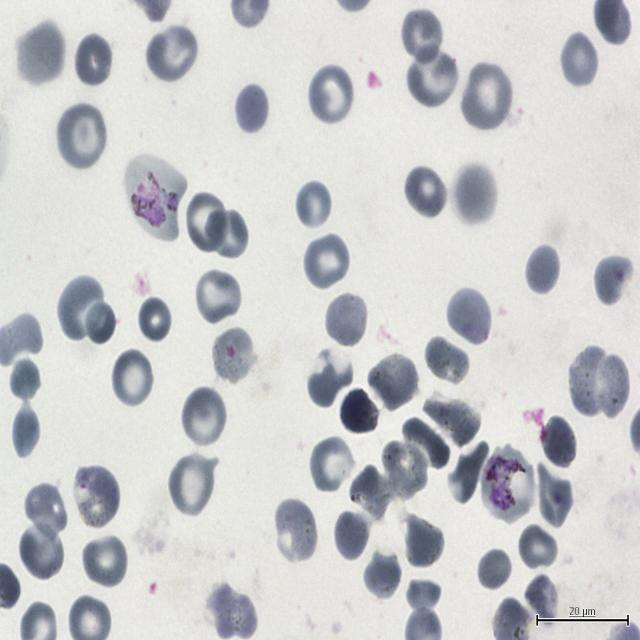red blood cell: (56, 103, 108, 172), (462, 62, 513, 132), (15, 19, 66, 86), (406, 46, 459, 110), (72, 463, 121, 532), (58, 276, 109, 342), (568, 344, 613, 418), (145, 23, 199, 84), (167, 452, 215, 519), (401, 412, 456, 469), (272, 497, 318, 565), (367, 352, 420, 411), (180, 386, 228, 451), (420, 394, 482, 444), (444, 284, 493, 347), (308, 62, 355, 127), (452, 162, 498, 227), (18, 520, 66, 582), (303, 231, 351, 292), (110, 347, 156, 410), (399, 5, 446, 66), (184, 190, 228, 255), (310, 434, 356, 496), (382, 439, 428, 501), (81, 533, 130, 590), (194, 268, 242, 326), (422, 333, 470, 388), (347, 466, 393, 522), (324, 290, 368, 348), (592, 252, 636, 310), (203, 206, 249, 261), (404, 163, 448, 220), (558, 30, 600, 89), (401, 514, 445, 570), (304, 356, 352, 407), (213, 328, 256, 383), (536, 465, 572, 530), (73, 32, 114, 88), (26, 479, 68, 533), (332, 508, 372, 563), (522, 574, 561, 630), (524, 242, 562, 296), (294, 178, 333, 230), (448, 445, 484, 501), (596, 356, 629, 417), (9, 403, 43, 462), (340, 386, 380, 436), (517, 524, 558, 572), (230, 81, 270, 130), (136, 295, 173, 346), (364, 549, 403, 597), (83, 298, 120, 348), (476, 546, 514, 594), (401, 572, 443, 614), (541, 418, 574, 468), (8, 355, 41, 401)
trophozoite: (126, 155, 188, 240), (482, 446, 537, 523)
